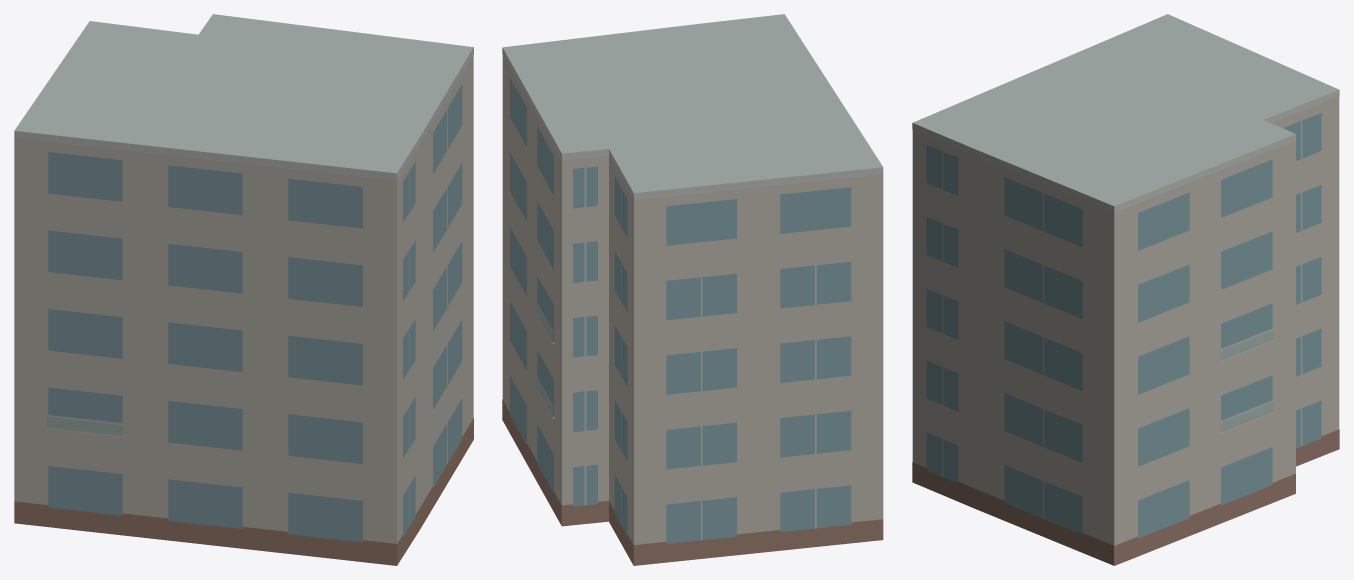
Rendered from survey-upis-32980825.glb.
3 views of the same model, side by side, from view 1: azimuth 30°, elevation 25°; view 2: azimuth 150°, elevation 25°; view 3: azimuth 270°, elevation 25° (orthographic). The views are drawn at different scales.
Visible parts, largest first — view 1: survey-upis-32980825.tmp; view 2: survey-upis-32980825.tmp; view 3: survey-upis-32980825.tmp.
Part boxes in pixels (x1,y1,x2,y2): survey-upis-32980825.tmp: (14, 14, 473, 565); survey-upis-32980825.tmp: (502, 14, 883, 565); survey-upis-32980825.tmp: (912, 14, 1339, 565).
Bounding box in the file's own units: 15.15 × 13.2 × 14.21.
